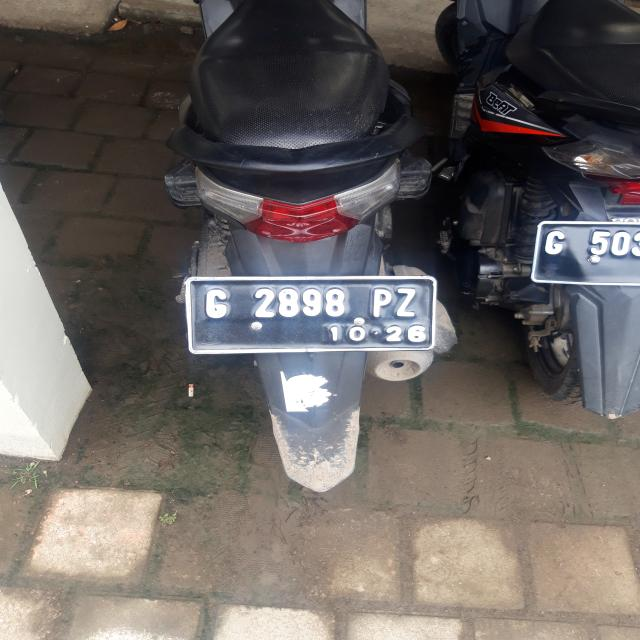plate: (186, 278, 433, 354)
